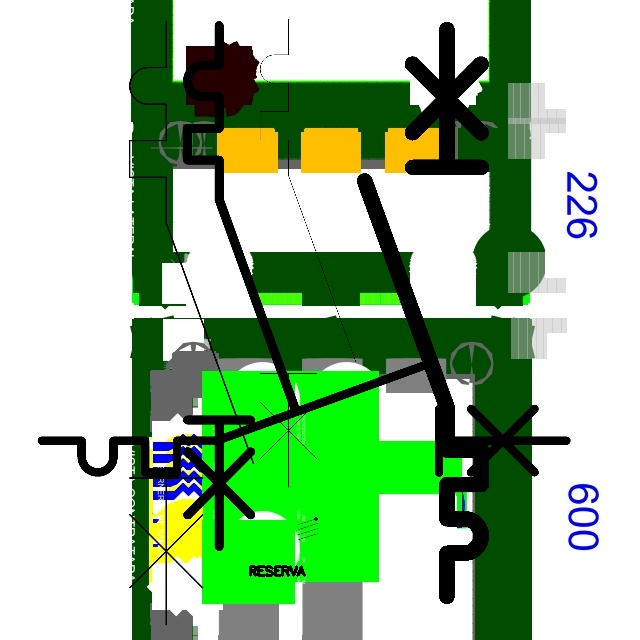interruptor_termomagnetico: (114, 6, 269, 640), (350, 15, 496, 611), (28, 351, 580, 486), (174, 12, 308, 559), (248, 7, 368, 499)
